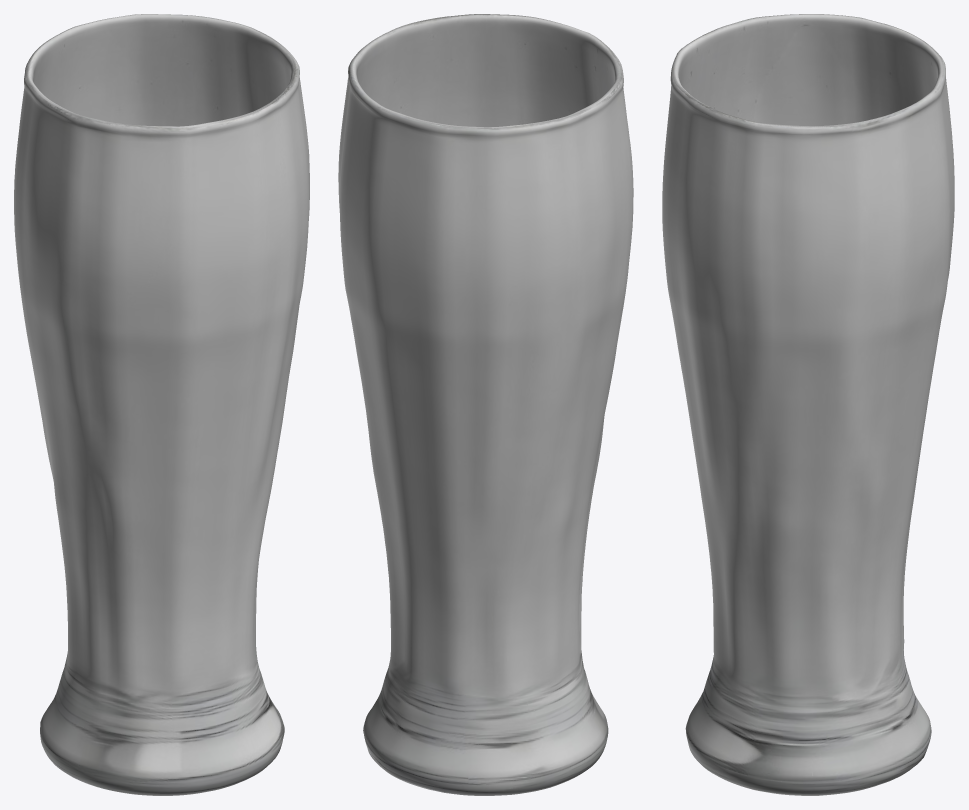
Rendered from model_beer_pilsner_glass.glb.
The picture shows the model from 3 angles, left to right: view 1: azimuth 30°, elevation 25°; view 2: azimuth 150°, elevation 25°; view 3: azimuth 270°, elevation 25°; orthographic projection.
Parts seen in each view (by area): view 1: tripo_node_f894c486-95b2-4e04-a0c4-115379cc93e7; view 2: tripo_node_f894c486-95b2-4e04-a0c4-115379cc93e7; view 3: tripo_node_f894c486-95b2-4e04-a0c4-115379cc93e7.
Boxes of the visible parts, box(x1,y1,x2,y2) form: tripo_node_f894c486-95b2-4e04-a0c4-115379cc93e7: box(14, 14, 309, 795); tripo_node_f894c486-95b2-4e04-a0c4-115379cc93e7: box(338, 14, 633, 795); tripo_node_f894c486-95b2-4e04-a0c4-115379cc93e7: box(662, 14, 954, 795).
Bounding box in the file's own units: 0.3913 × 0.9997 × 0.3891.
Materials: 1 (1 with a texture image).
